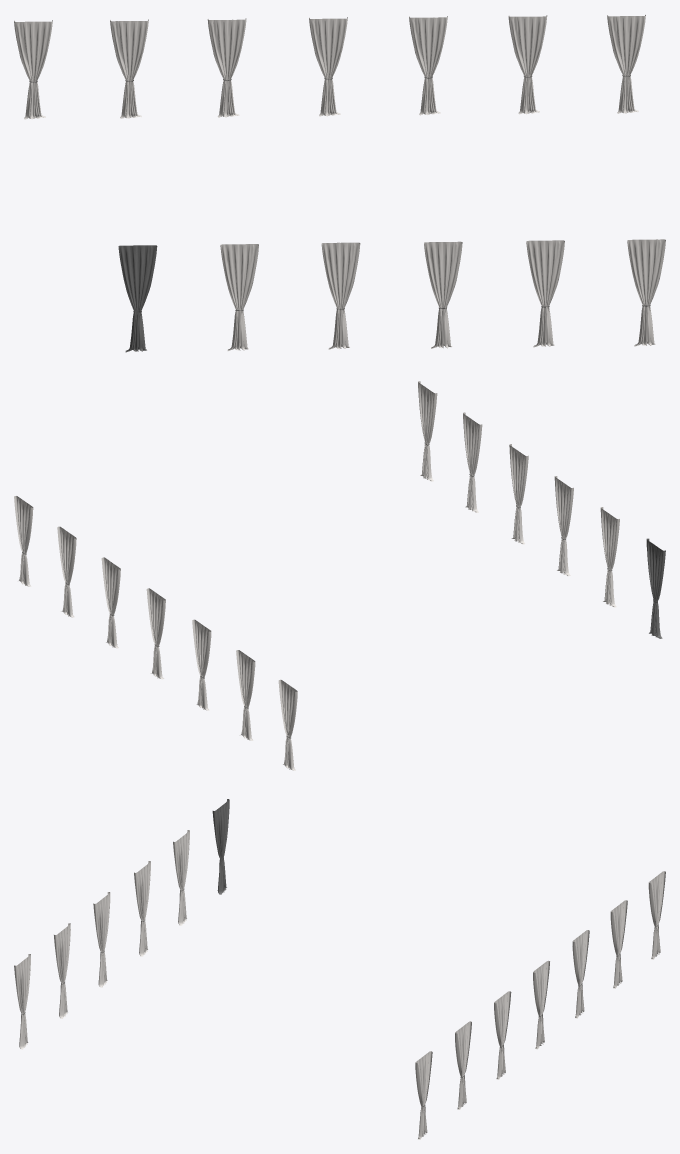
The model's file is lpdl1.gltf.
3 renders of one model, top to bottom at view 1: azimuth 30°, elevation 25°; view 2: azimuth 150°, elevation 25°; view 3: azimuth 270°, elevation 25°, orthographic. The views are drawn at different scales.
Visible parts, largest first — view 1: gpd1.015; view 2: gpd1.015; view 3: gpd1.015.
Boxes of the visible parts, left/top/right/bottom form: gpd1.015: left=14, top=15, right=665, bottom=352; gpd1.015: left=14, top=381, right=665, bottom=770; gpd1.015: left=14, top=799, right=665, bottom=1139.
Bounding box in the file's own units: 24.57 × 3.85 × 26.36.
26 materials, 1 textured.
